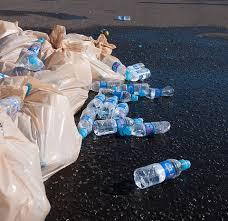Plastic bottle: (129, 152, 195, 189), (88, 80, 138, 113), (105, 52, 154, 78), (76, 111, 121, 136), (128, 116, 172, 138), (148, 83, 174, 99)
